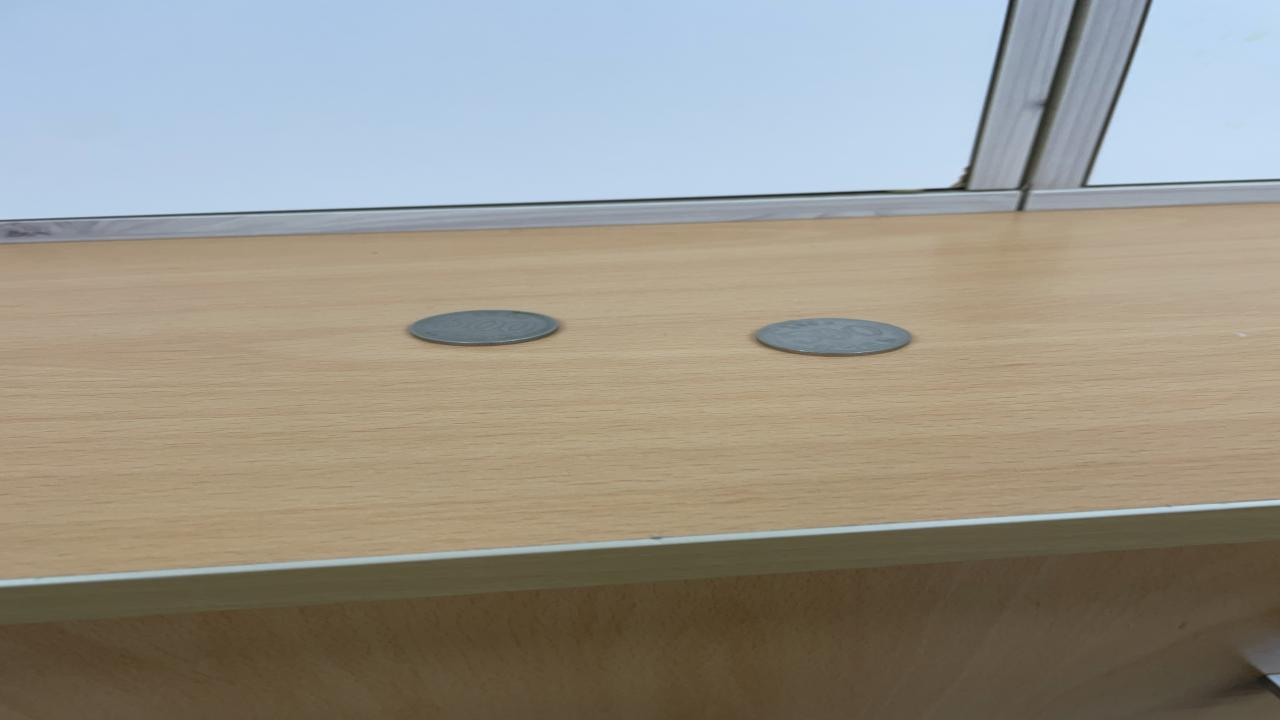coin: (749, 315, 918, 359), (406, 308, 562, 348)
